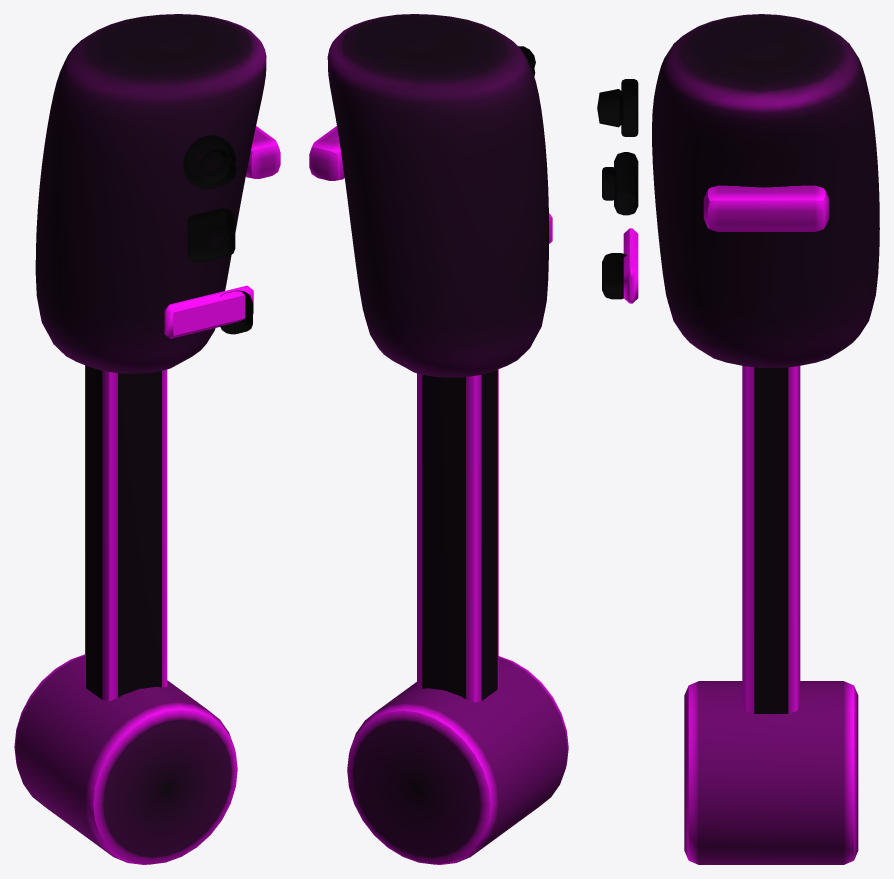
File: ck_throttle.fbx
3 views of the same model, side by side, from view 1: azimuth 30°, elevation 25°; view 2: azimuth 150°, elevation 25°; view 3: azimuth 270°, elevation 25° (orthographic). The views are drawn at different scales.
Visible parts, largest first — view 1: ck_throttle; view 2: ck_throttle; view 3: ck_throttle.
Boxes of the visible parts, x1=… form: ck_throttle: x1=14, y1=14, x2=280, y2=864; ck_throttle: x1=309, y1=14, x2=568, y2=864; ck_throttle: x1=597, y1=14, x2=879, y2=864.
Bounding box in the file's own units: 5.84 × 5.1 × 18.88.
